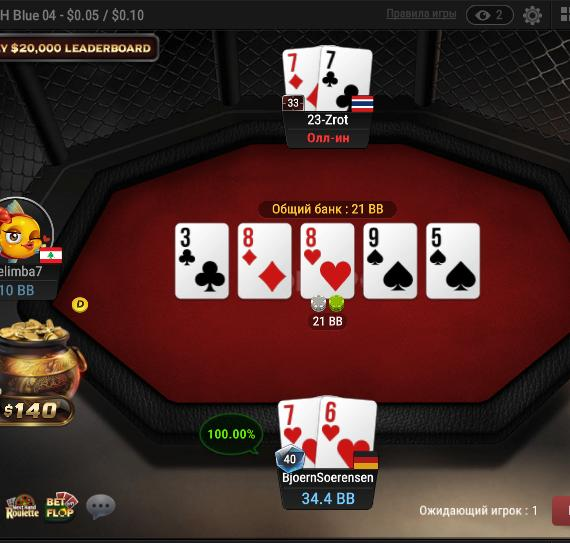3c: (175, 223, 228, 298)
5s: (427, 223, 478, 297)
6h: (319, 396, 379, 467)
7c: (319, 44, 373, 111)
7d: (281, 44, 319, 111)
7h: (276, 397, 318, 467)
8d: (239, 223, 292, 298)
8h: (301, 223, 356, 297)
9s: (364, 224, 416, 298)
